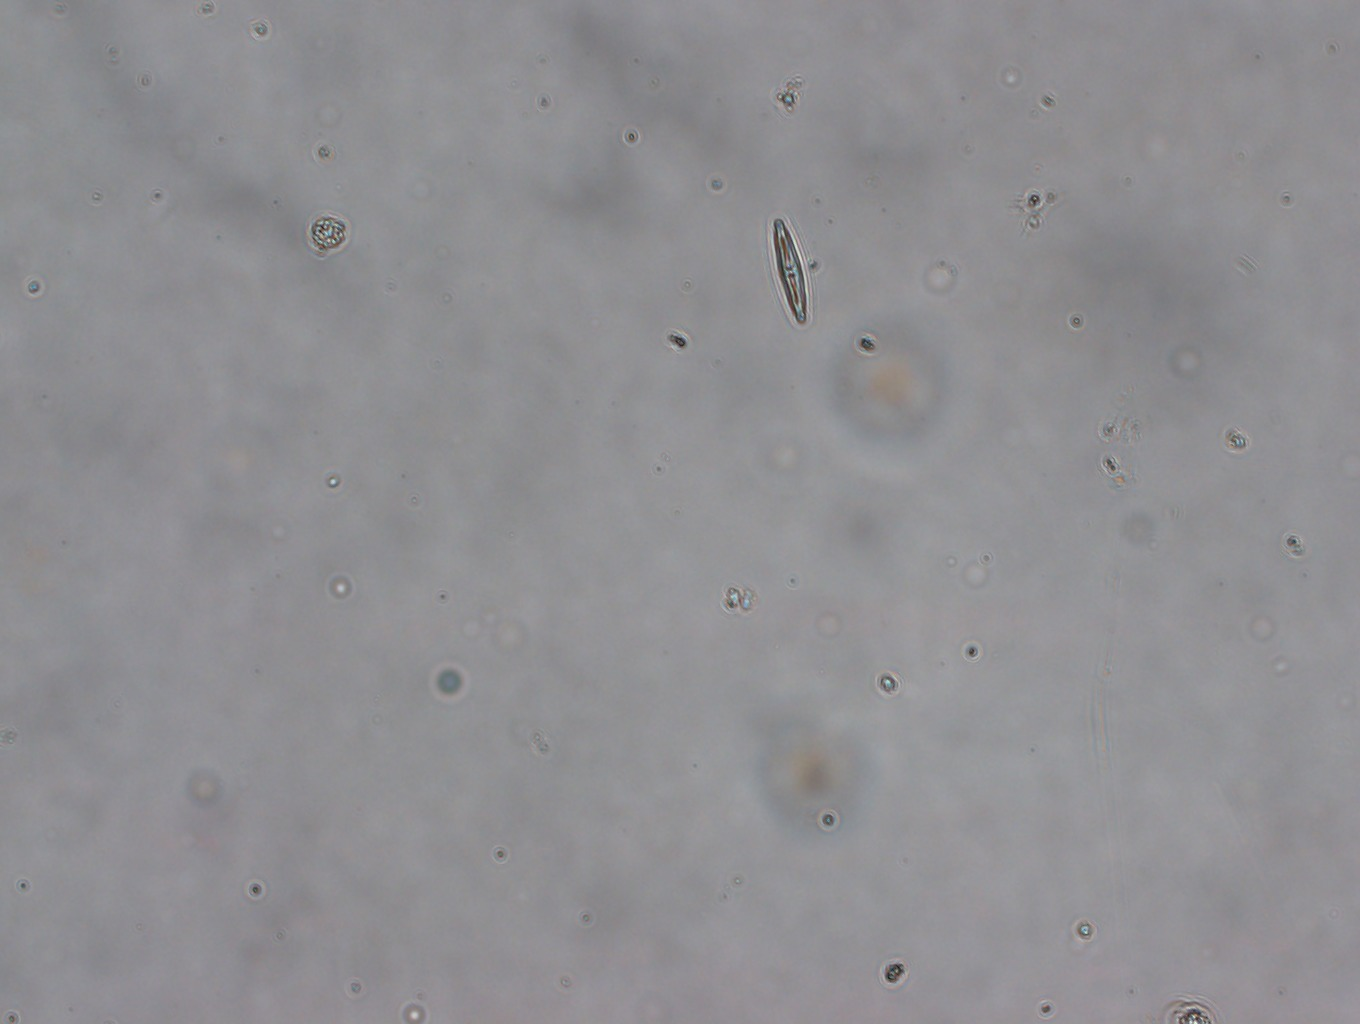navicula: (768, 212, 810, 329)
